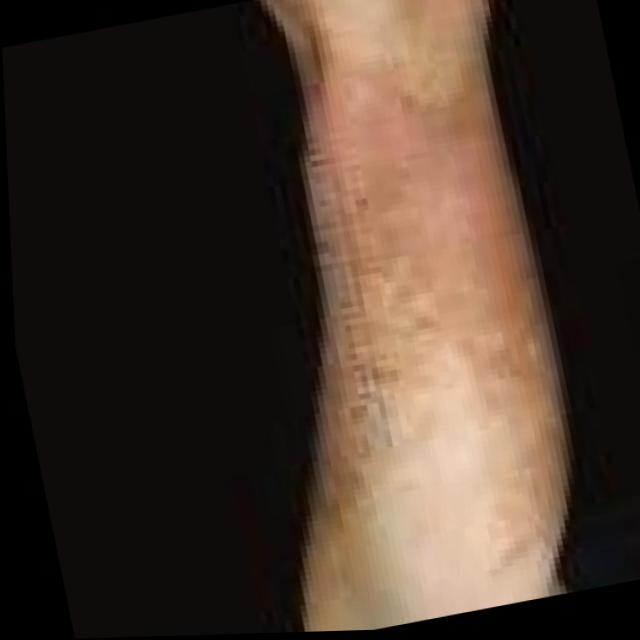Melasma: (302, 56, 544, 353)
